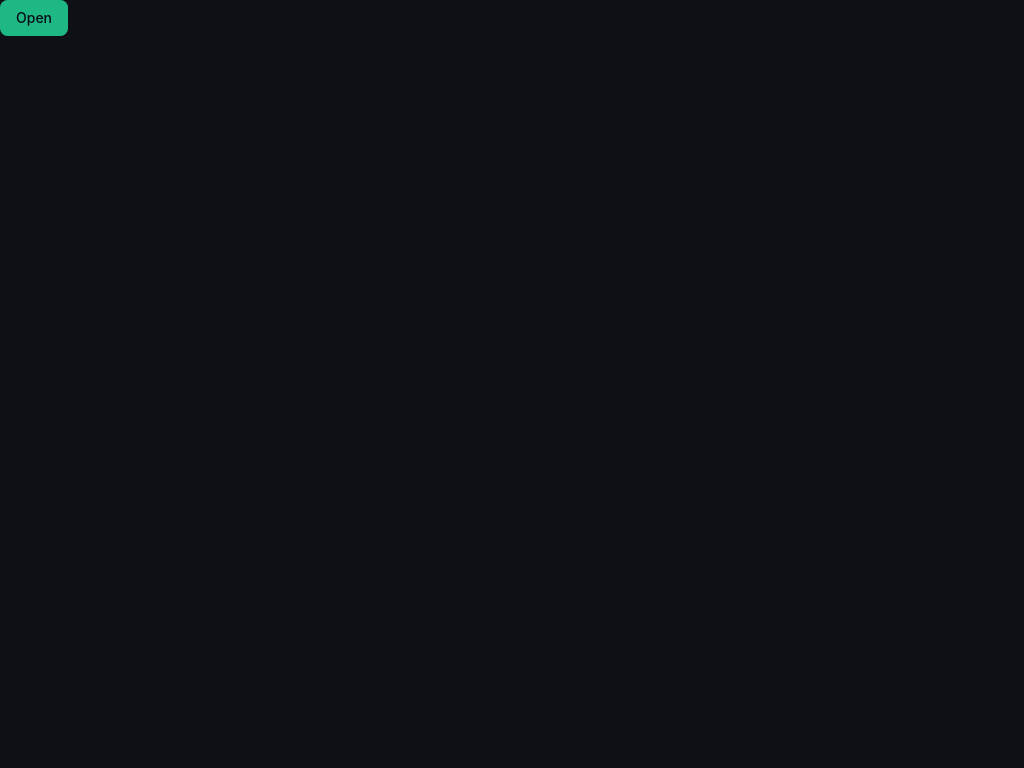
Test case: TargetAuthDialog › requires an explicit confirmation before submitting
Click the button "Open". click: x=34, y=18
box: [0,0,68,36]
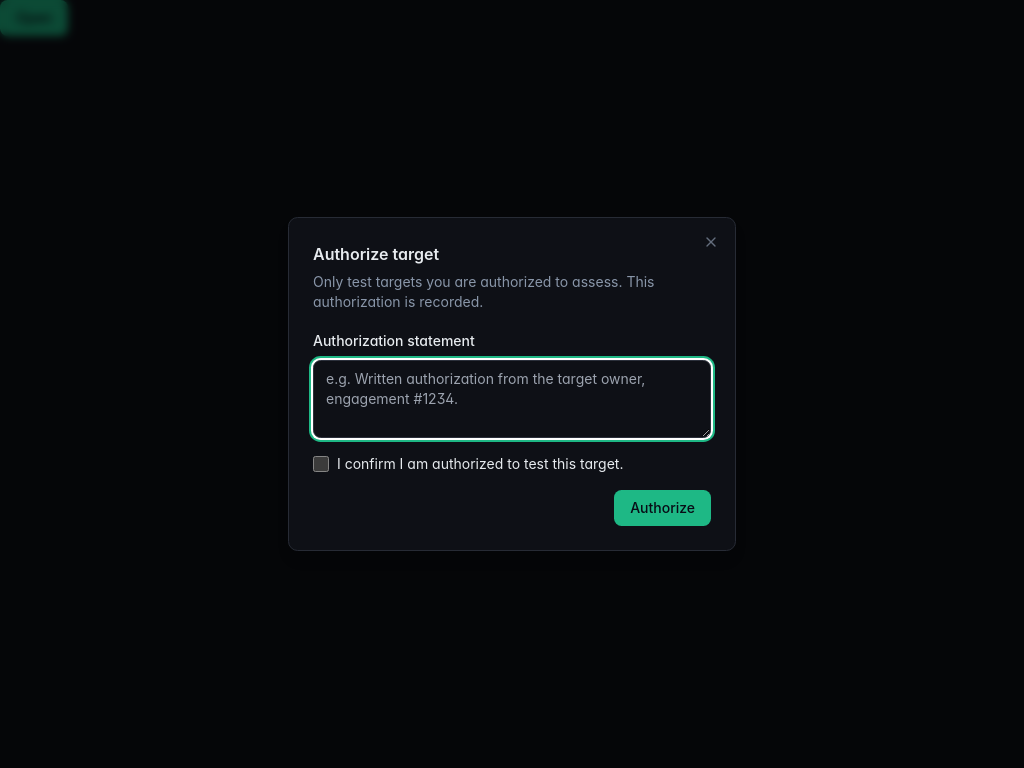
Type "engagement #1" into the text box labelled "Authorization statement". click: x=512, y=399
box: [313,360,711,438]
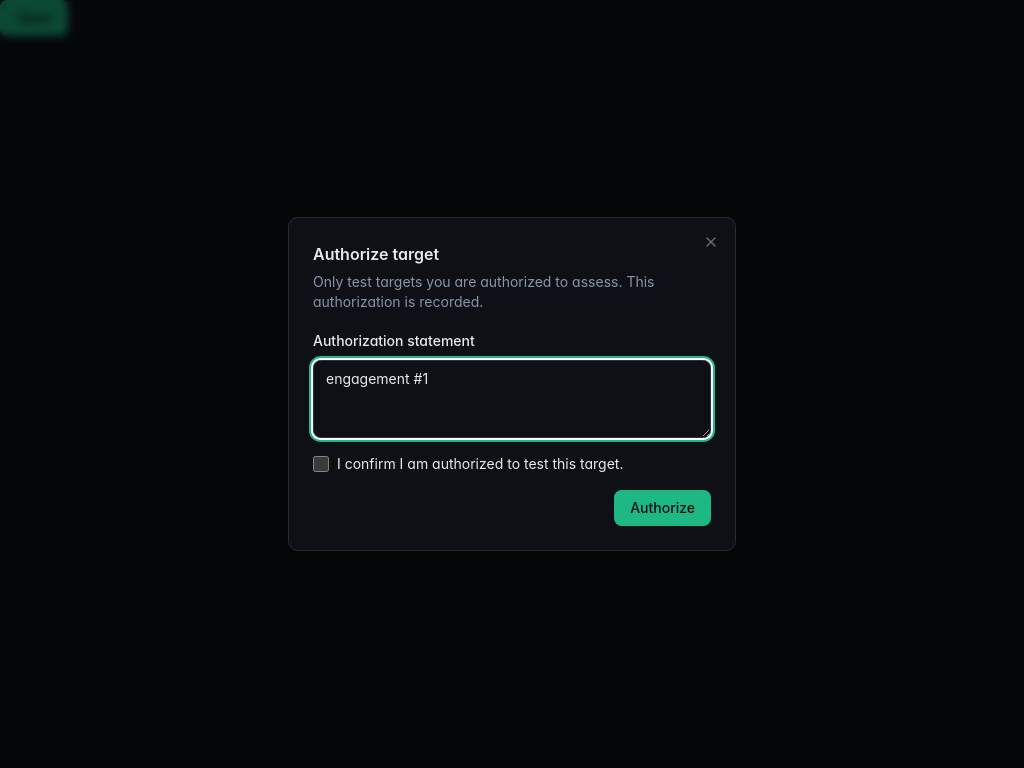
# Submit without checking the confirm box.
Click the button "Authorize". click: x=663, y=508
box: [614,490,711,526]
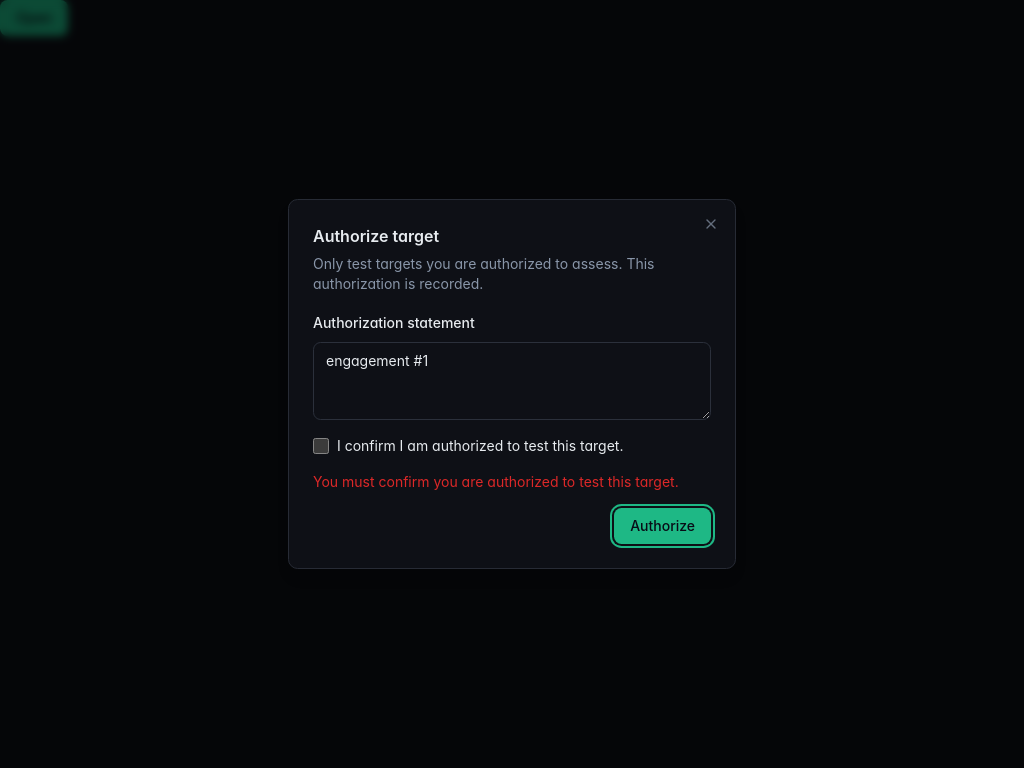
Expected: the message shows "must confirm", [313,473,679,490]
